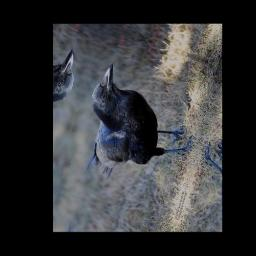Crow: (70, 60, 206, 204)
